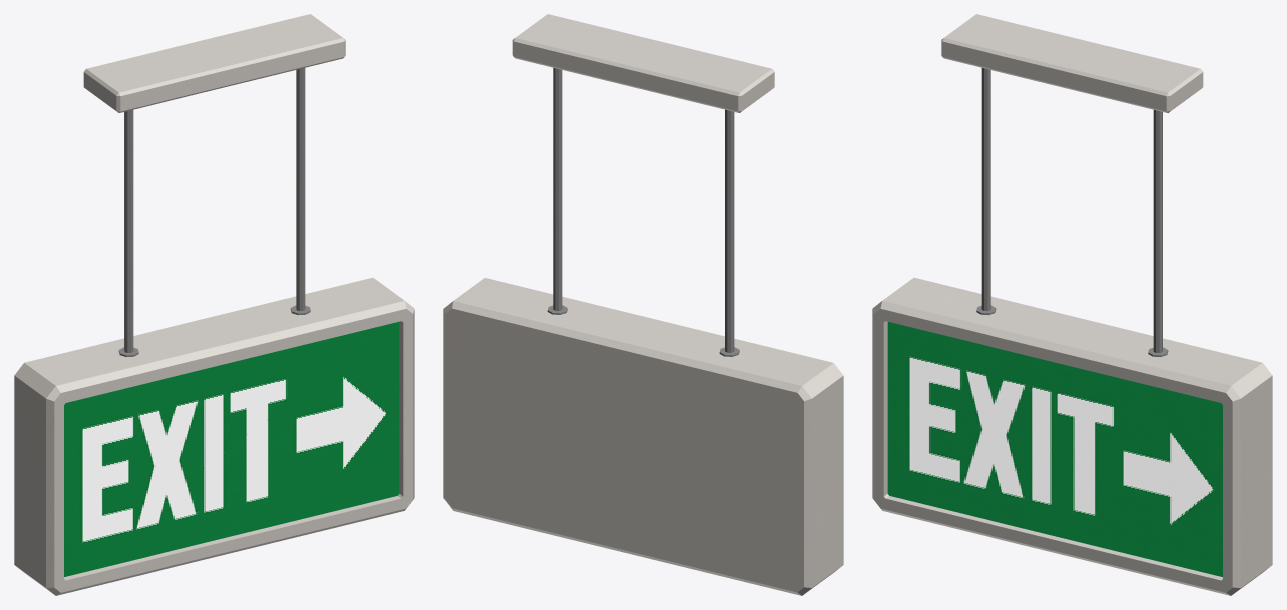
The model's file is exit_sign.glb.
The picture shows the model from 3 angles, left to right: view 1: azimuth 30°, elevation 25°; view 2: azimuth 150°, elevation 25°; view 3: azimuth 330°, elevation 25°; orthographic projection.
Visible parts, largest first — view 1: core_exit_sign; view 2: core_exit_sign; view 3: core_exit_sign.
Part boxes in pixels (x1,y1,x2,y2): core_exit_sign: (14,14,414,595); core_exit_sign: (443,14,843,595); core_exit_sign: (872,14,1272,595).
Size of the model in its own units: 0.45 by 0.57 by 0.08.
Materials: 2 (2 with a texture image).
